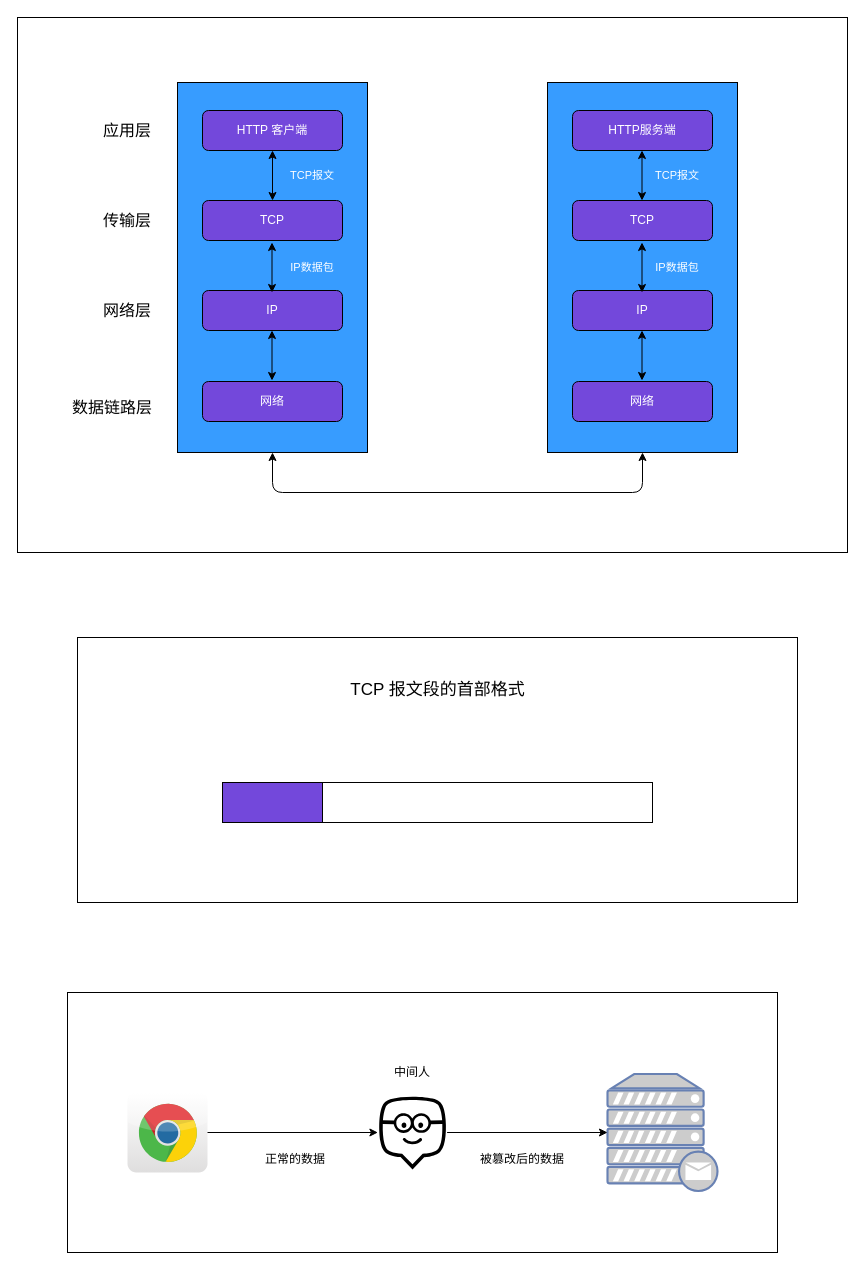
Image size: 865x1270. Some labels were removed from this diagram. Each missing label, with the centre of its shape:
"TCP 报文段的数据部分" goes at [487,802].
"TCP 首部" goes at [272,802].
